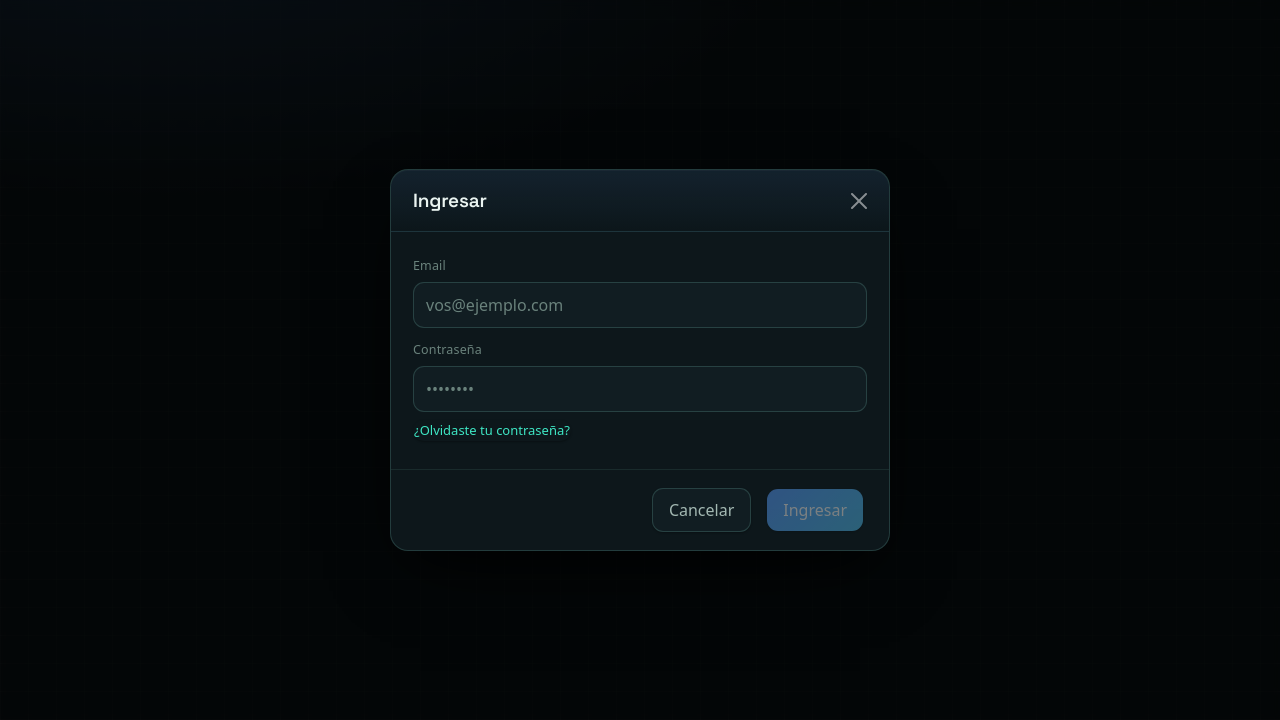
it: login of an unverified account offers to resend the email
In the field with placeholder "vos@ejemplo.com": (640, 305) x1=413 y1=282 x2=867 y2=328, type "ana@example.com"
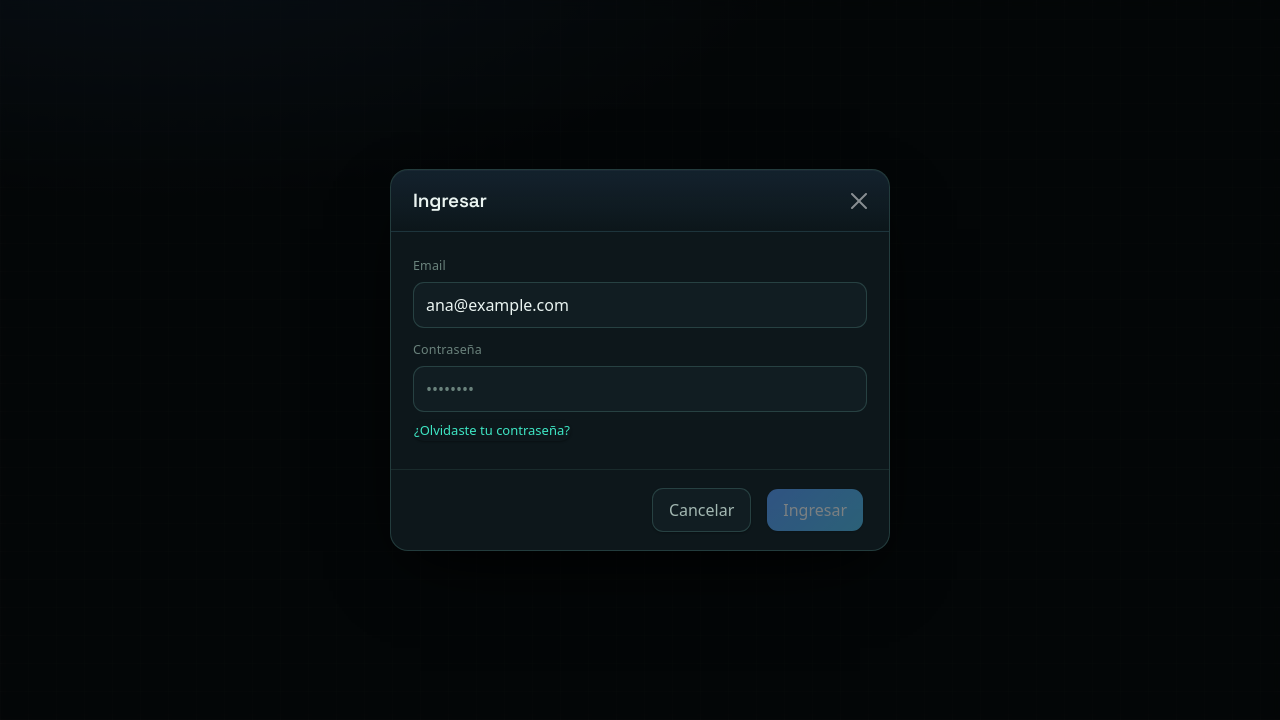
In the password field with placeholder "••••••••": (640, 388) x1=413 y1=366 x2=867 y2=412, type "Strong123!"
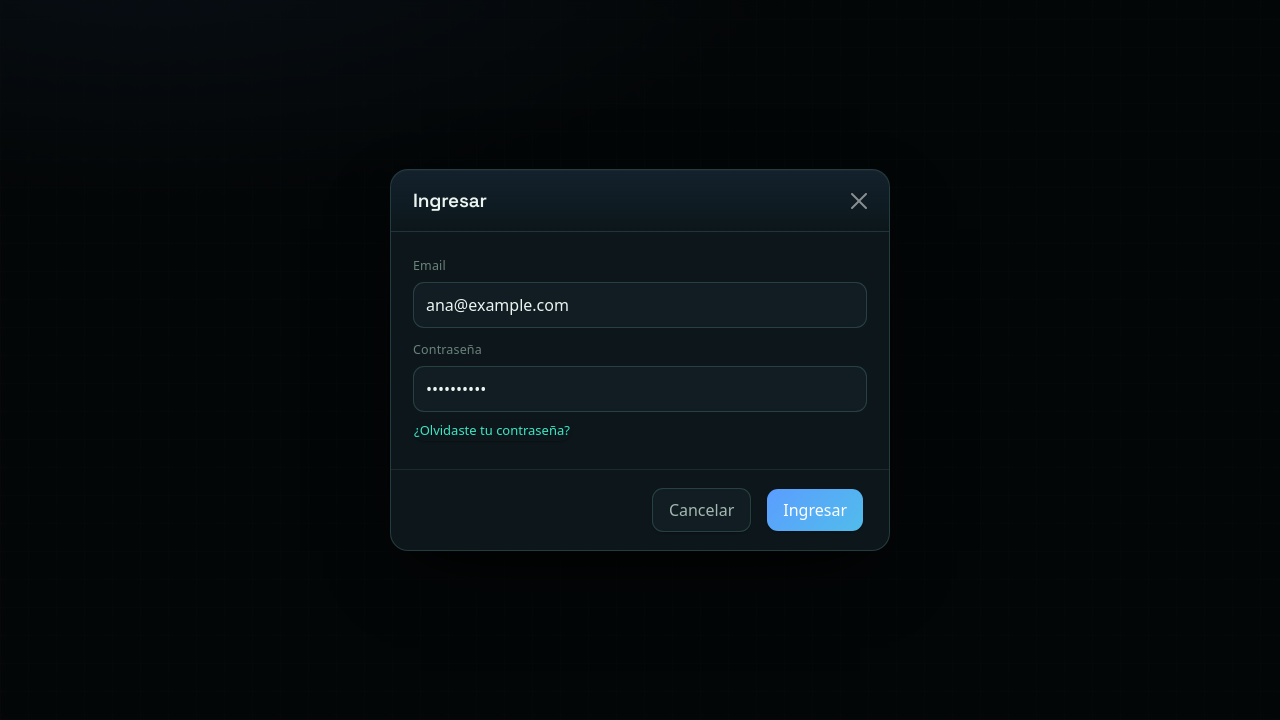
Click the button "Ingresar": (815, 510) x1=767 y1=489 x2=863 y2=531
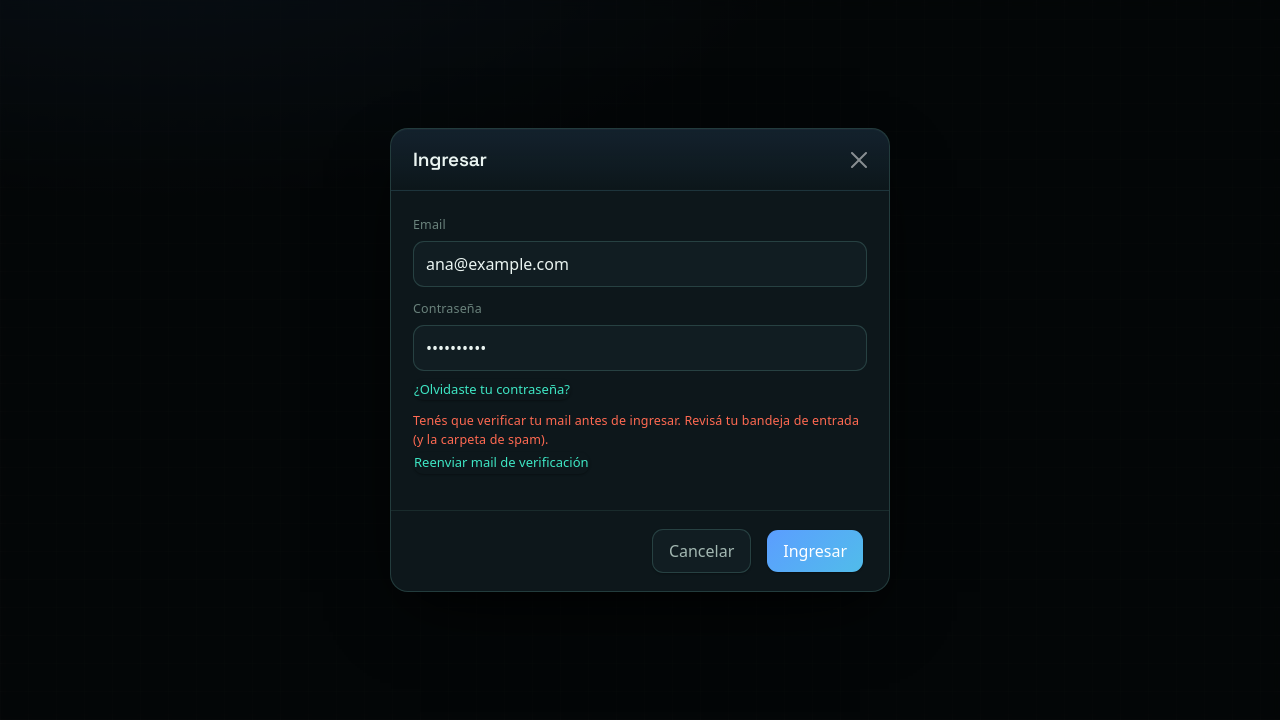
Expected: the text "Tenés que verificar tu mail" is shown, x1=413 y1=412 x2=859 y2=448
Click the button "Reenviar mail de verificación": (501, 463) x1=413 y1=452 x2=590 y2=474
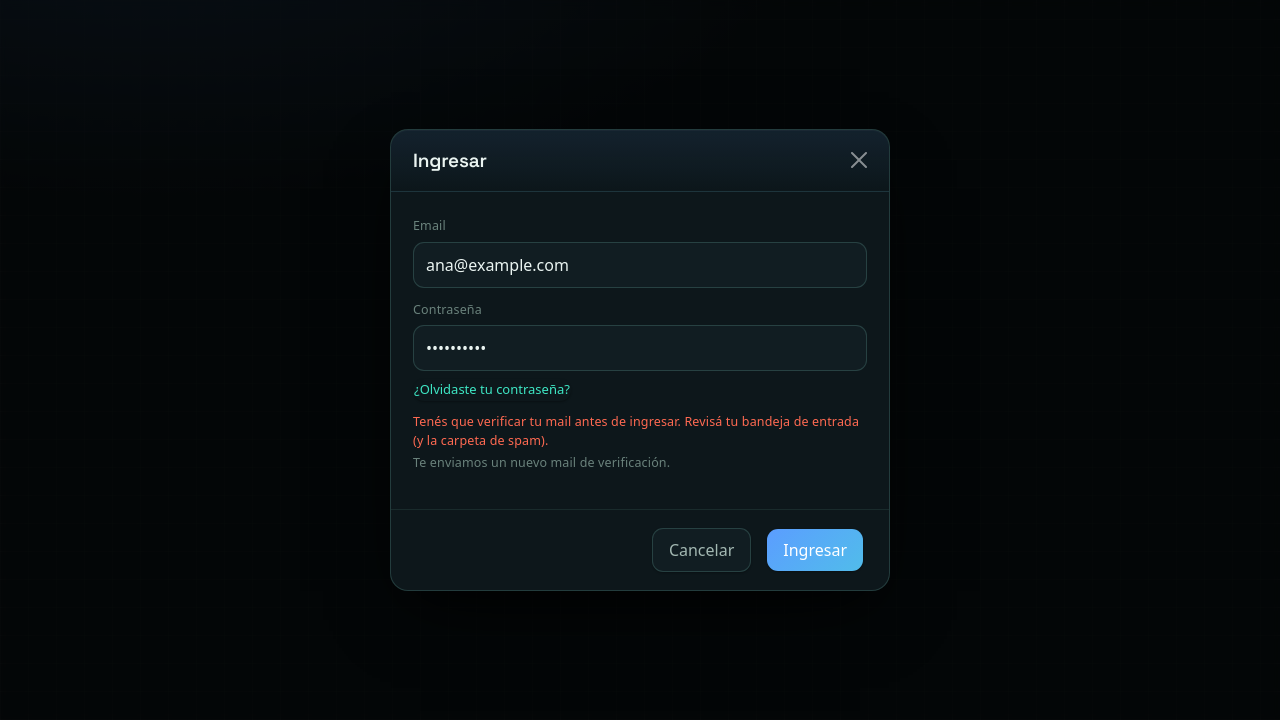
Expected: the text "Te enviamos un nuevo mail de verificación." is shown, x1=413 y1=454 x2=670 y2=471
